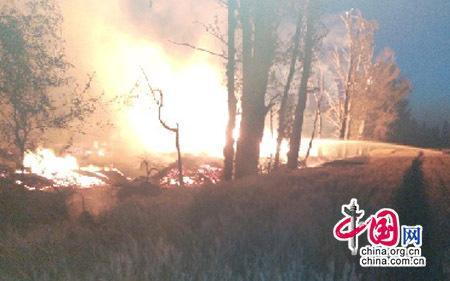fire: (0, 1, 398, 202)
